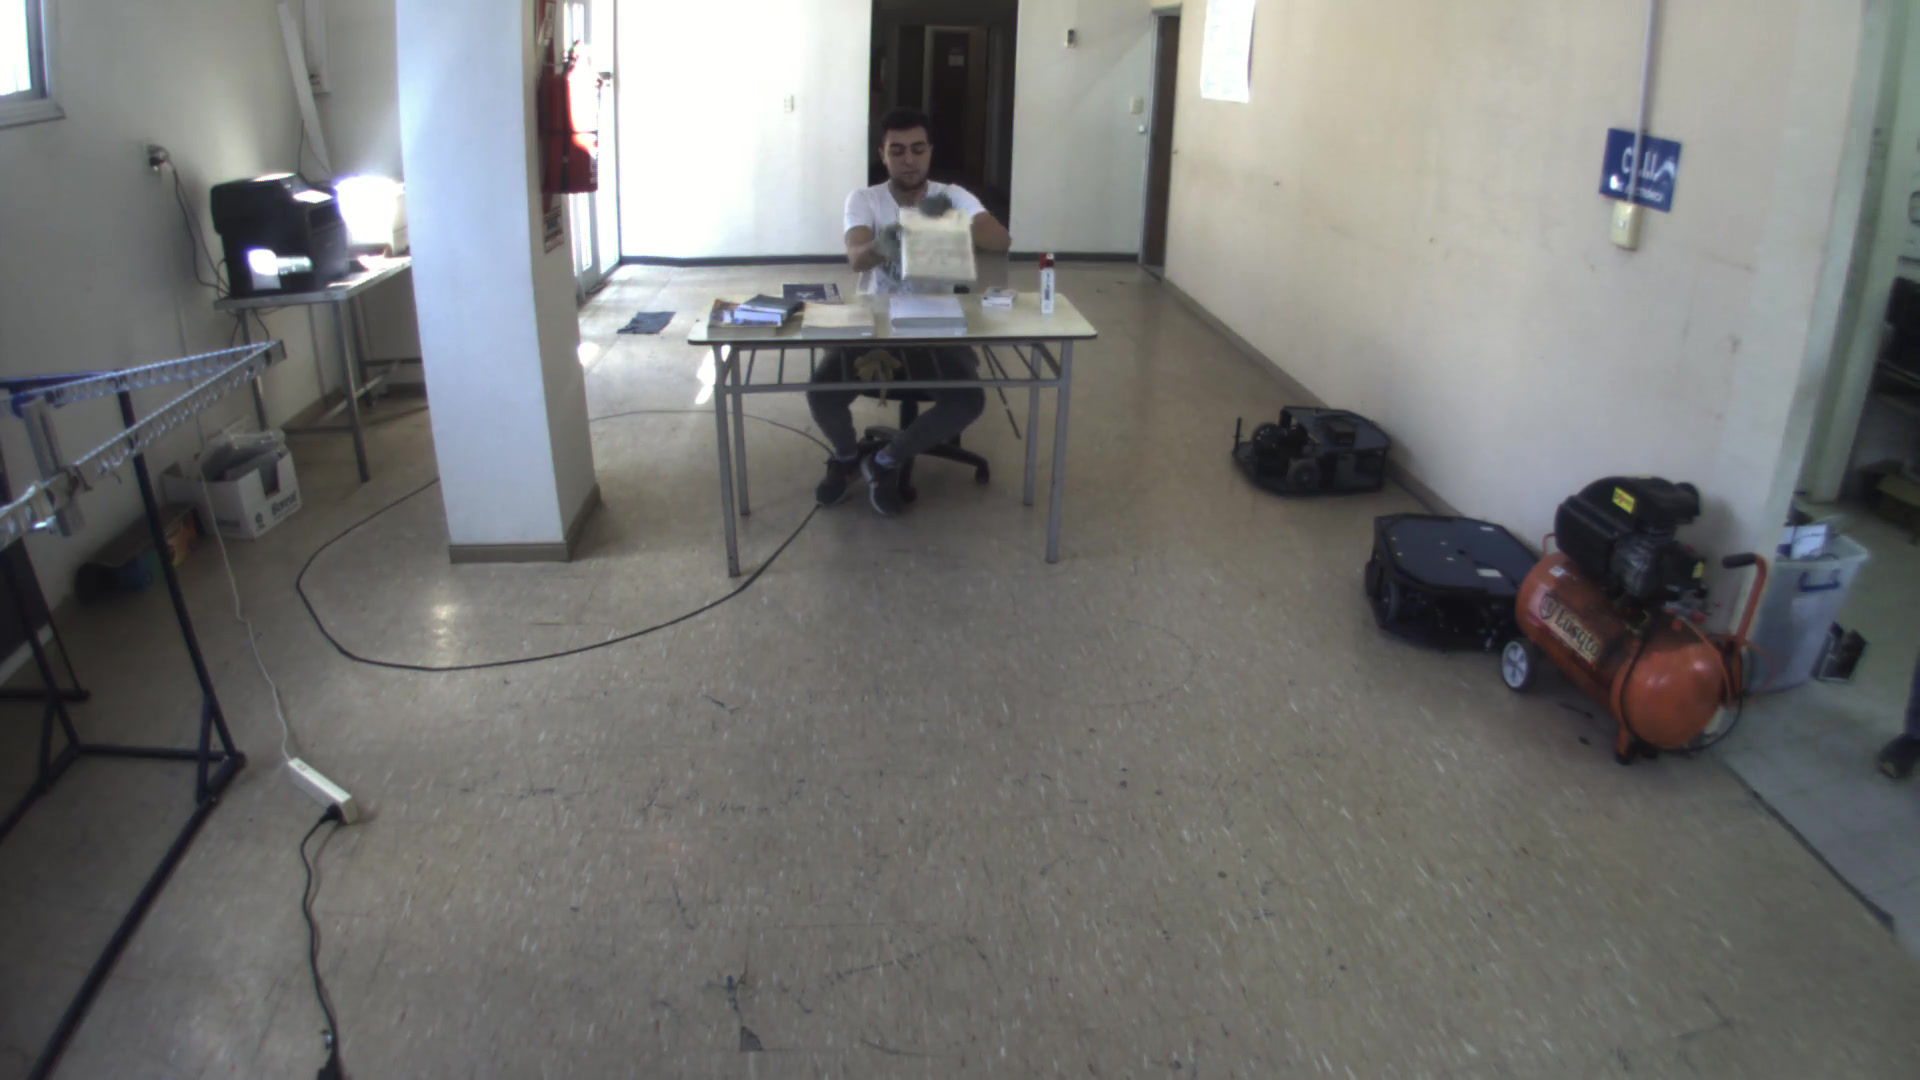hand: (866, 223, 905, 266), (911, 193, 957, 220)
